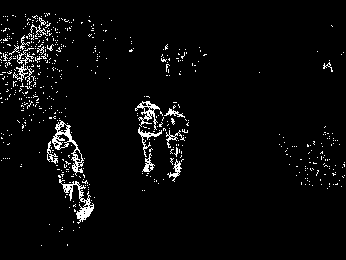person: (46, 118, 95, 223), (135, 94, 165, 176), (160, 100, 190, 181)
